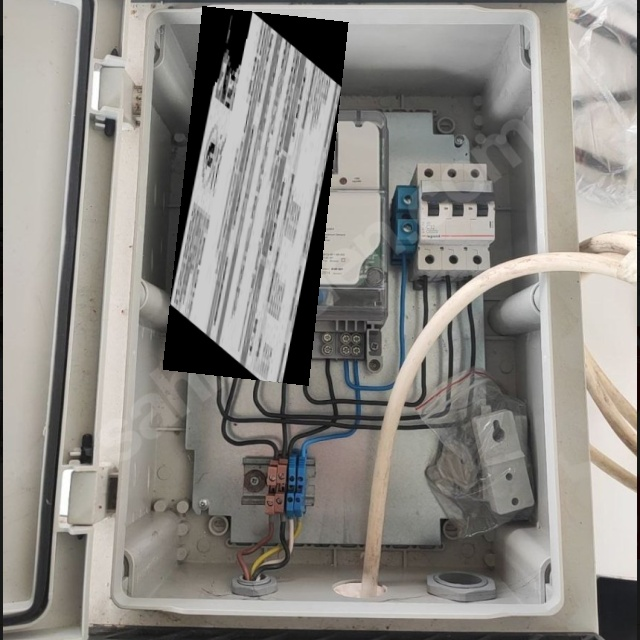electricity-bill: (163, 6, 349, 386)
